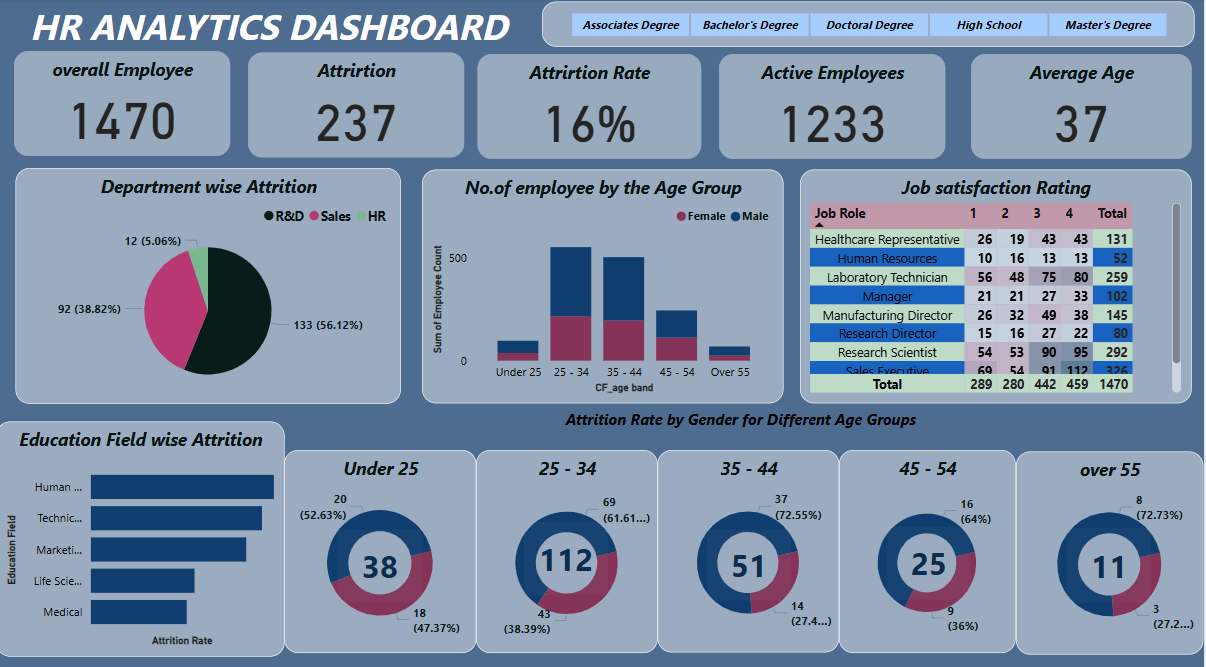

The dashboard page shown, as its layout file describes it:
{"tool":"powerbi","page":{"name":"Page 1","canvas":[1280,720],"ordinal":0},"visuals":[{"type":"card","title":"overall Employee","fields":{"Values":["Sum(HR data.Employee Count)"]},"box":[19.1,57.3,229,111.3],"z":0},{"type":"card","title":"Attrirtion","fields":{"Values":["Sum(HR data.Attrition count )"]},"box":[267.2,58.9,229,111.3],"z":1000},{"type":"card","title":"Attrirtion Rate","fields":{"Values":["HR data.Attrition Rate"]},"box":[510.6,60.4,237,111.3],"z":2000},{"type":"card","title":"Active Employees","fields":{"Values":["HR data.Acitve employees"]},"box":[766.7,60.4,240.2,111.3],"z":3000},{"type":"card","title":"Average Age","fields":{"Values":["Avg(HR data.Age)"]},"box":[1033.9,60.4,233.8,111.3],"z":4000},{"type":"pieChart","title":"Department wise Attrition ","fields":{"Category":["HR data.Department"],"Y":["Sum(HR data.Attrition count )"]},"box":[20.7,181.3,408.8,249.7],"z":5000},{"type":"columnChart","title":"No.of employee by the Age Group","fields":{"Category":["HR data.CF_age band"],"Y":["Sum(HR data.Employee Count)"],"Series":["HR data.Gender"]},"box":[451.7,182.9,383.3,248.1],"z":6000},{"type":"pivotTable","title":"Job satisfaction Rating ","fields":{"Rows":["HR data.Job Role"],"Columns":["HR data.Job Satisfaction"],"Values":["Sum(HR data.Employee Count)"]},"box":[852.6,182.9,415.1,248.1],"z":7000},{"type":"barChart","title":"Education Field wise Attrition","fields":{"Category":["HR data.Education Field"],"Y":["HR data.Attrition Rate"]},"box":[0,449.8,306.1,249.5],"z":8000},{"type":"donutChart","title":"Under 25","fields":{"Category":["HR data.Gender"],"Y":["Sum(HR data.Attrition count )"],"Series":["HR data.CF_age band"]},"box":[306.1,480,204.1,215.4],"z":9000},{"type":"textbox","box":[305.4,431.1,973.5,49.3],"z":10000},{"type":"donutChart","title":"25 - 34","fields":{"Category":["HR data.Gender"],"Y":["Sum(HR data.Attrition count )"],"Series":["HR data.CF_age band"]},"box":[508.4,480,192.8,215.4],"z":11000},{"type":"donutChart","title":"35 - 44","fields":{"Category":["HR data.Gender"],"Y":["Sum(HR data.Attrition count )"],"Series":["HR data.CF_age band"]},"box":[701.5,480.4,192.5,214.7],"z":12000},{"type":"donutChart","title":"45 - 54","fields":{"Category":["HR data.Gender"],"Y":["Sum(HR data.Attrition count )"],"Series":["HR data.CF_age band"]},"box":[893.9,480,187.1,215.4],"z":13000},{"type":"donutChart","title":"over 55","fields":{"Category":["HR data.Gender"],"Y":["Sum(HR data.Attrition count )"],"Series":["HR data.CF_age band"]},"box":[1081,481.9,198.4,215.4],"z":14000},{"type":"card","fields":{"Values":["Sum(HR data.Attrition count )"]},"box":[362.8,565,88.8,77.5],"z":15000},{"type":"card","fields":{"Values":["Sum(HR data.Attrition count )"]},"box":[559.4,557.5,88.8,77.5],"z":16000},{"type":"card","fields":{"Values":["Sum(HR data.Attrition count )"]},"box":[944.9,561.3,88.8,77.5],"z":18000},{"type":"card","fields":{"Values":["Sum(HR data.Attrition count )"]},"box":[1135.8,563.2,88.8,79.4],"z":19000},{"type":"textbox","box":[0,0,644.2,71.6],"z":20000},{"type":"slicer","fields":{"Values":["HR data.Education"]},"box":[579,4.8,691.9,47.7],"z":21000},{"type":"card","fields":{"Values":["Sum(HR data.Attrition count )"]},"box":[754,565,88.8,75.6],"z":21001}]}

Visuals, with their boxes in screenshot pixels (x1, y1, x2, y2), scaled from the page's 1280x720 canvas onto the 1206x667 screenshot:
"overall Employee" card: <box>18,53,234,156</box>
"Attrirtion" card: <box>252,55,468,158</box>
"Attrirtion Rate" card: <box>481,56,704,159</box>
"Active Employees" card: <box>722,56,949,159</box>
"Average Age" card: <box>974,56,1194,159</box>
"Department wise Attrition " pieChart: <box>20,168,405,399</box>
"No.of employee by the Age Group" columnChart: <box>426,169,787,399</box>
"Job satisfaction Rating " pivotTable: <box>803,169,1194,399</box>
"Education Field wise Attrition" barChart: <box>0,417,288,648</box>
"Under 25" donutChart: <box>288,445,481,644</box>
textbox: <box>288,399,1205,445</box>
"25 - 34" donutChart: <box>479,445,661,644</box>
"35 - 44" donutChart: <box>661,445,842,644</box>
"45 - 54" donutChart: <box>842,445,1019,644</box>
"over 55" donutChart: <box>1019,446,1205,646</box>
card - Sum(HR data.Attrition count ): <box>342,523,425,595</box>
card - Sum(HR data.Attrition count ): <box>527,516,611,588</box>
card - Sum(HR data.Attrition count ): <box>890,520,974,592</box>
card - Sum(HR data.Attrition count ): <box>1070,522,1154,595</box>
textbox: <box>0,0,607,66</box>
slicer - HR data.Education: <box>546,4,1197,49</box>
card - Sum(HR data.Attrition count ): <box>710,523,794,593</box>
